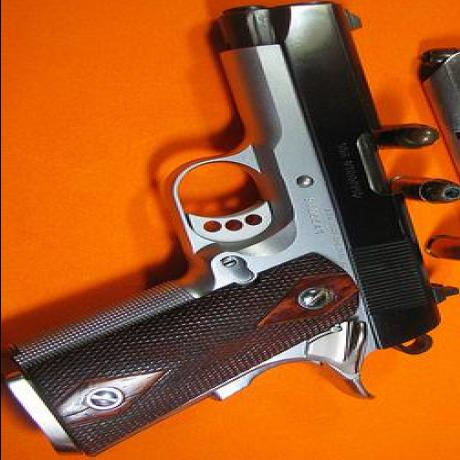weapon: (14, 0, 460, 454)
